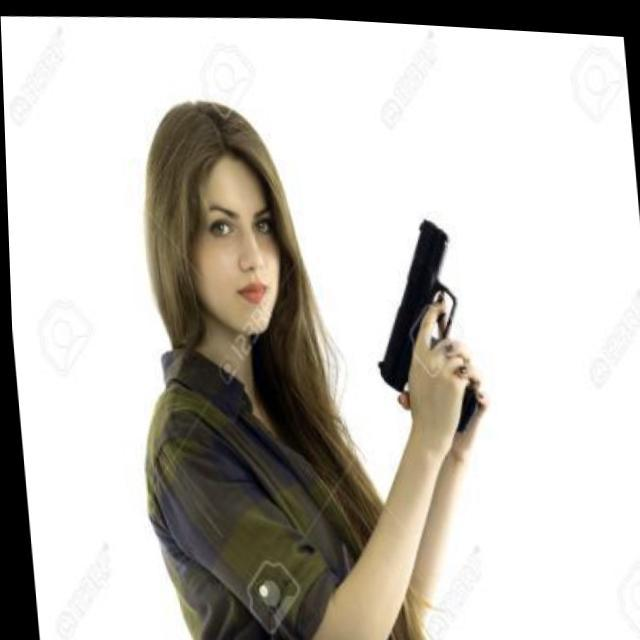weapon: (352, 206, 487, 442)
